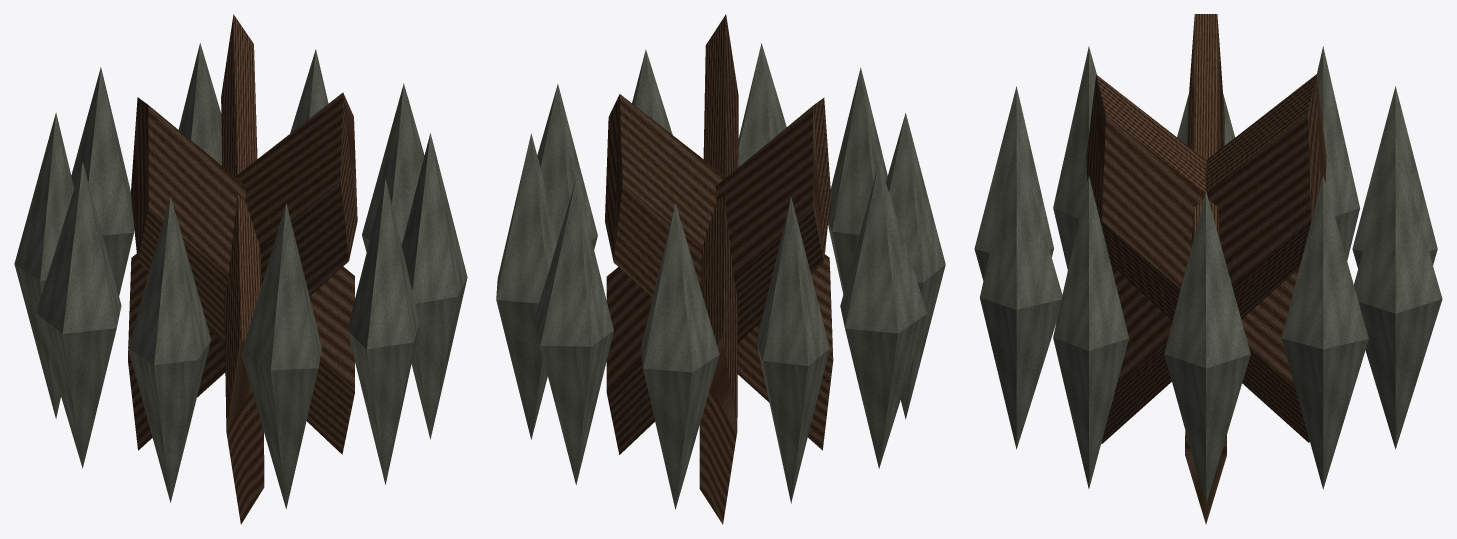
File: campfire_01.fbx
3 views of the same model, side by side, from view 1: azimuth 30°, elevation 25°; view 2: azimuth 150°, elevation 25°; view 3: azimuth 270°, elevation 25° (orthographic). The views are drawn at different scales.
Parts seen in each view (by area): view 1: campfire_01_LOD0; view 2: campfire_01_LOD0; view 3: campfire_01_LOD0.
Boxes of the visible parts, left/top/right/bottom form: campfire_01_LOD0: left=14, top=14, right=467, bottom=524; campfire_01_LOD0: left=496, top=14, right=945, bottom=524; campfire_01_LOD0: left=974, top=14, right=1442, bottom=524.
Size of what is drawn, in the model's own units: 1 by 1 by 1.
